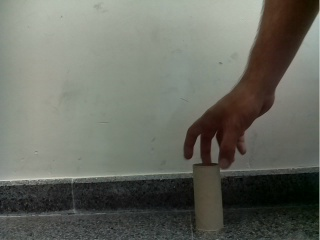rollo papel: (192, 162, 224, 231)
